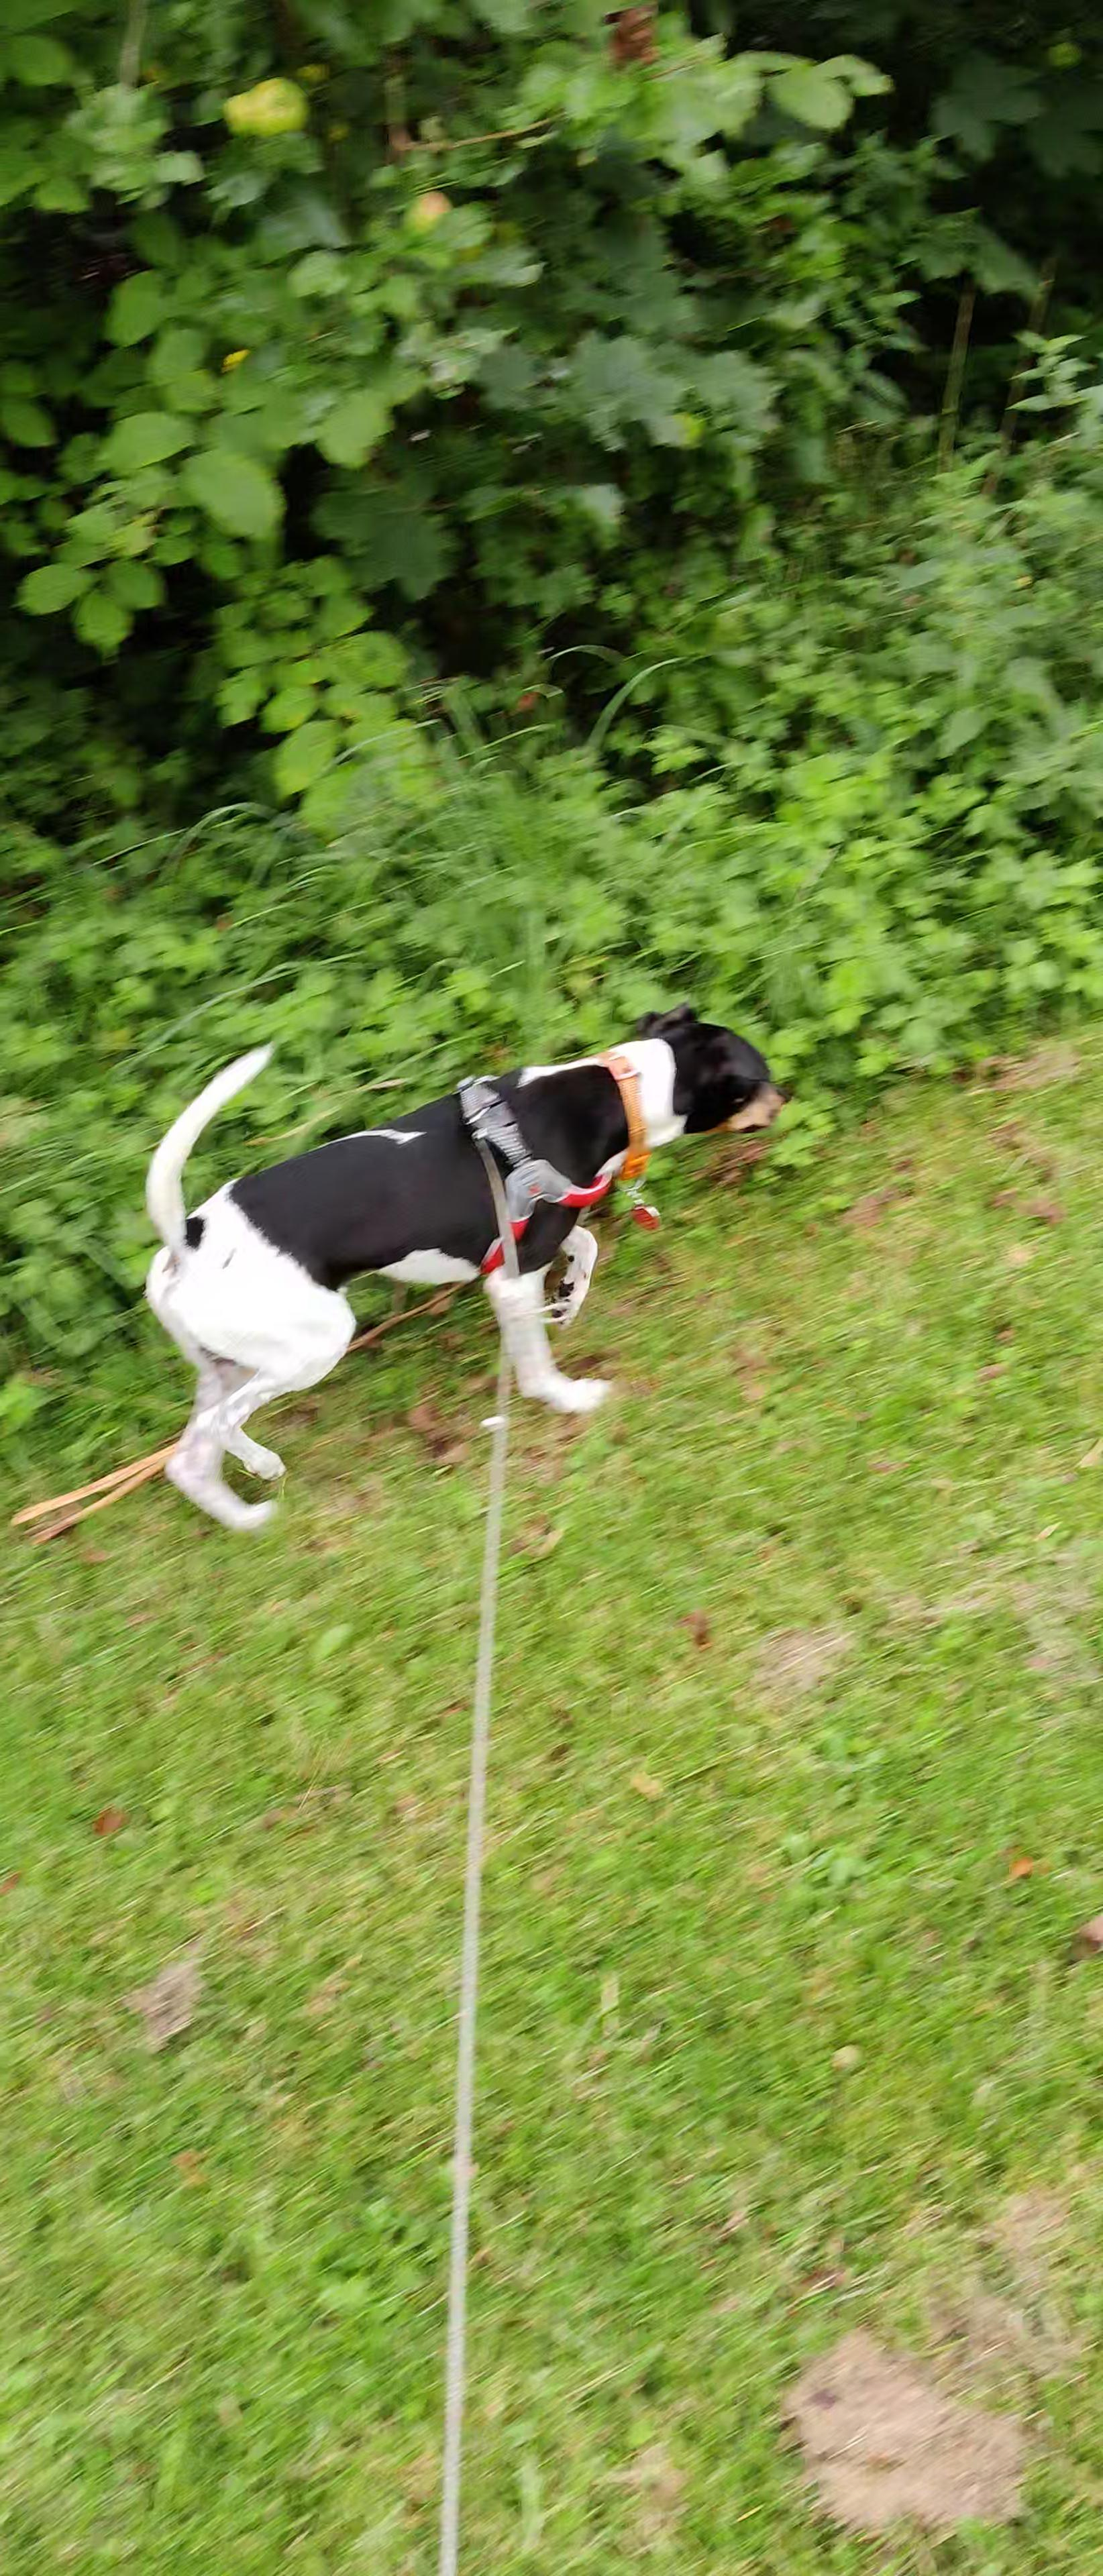Dog: (115, 987, 805, 1549)
